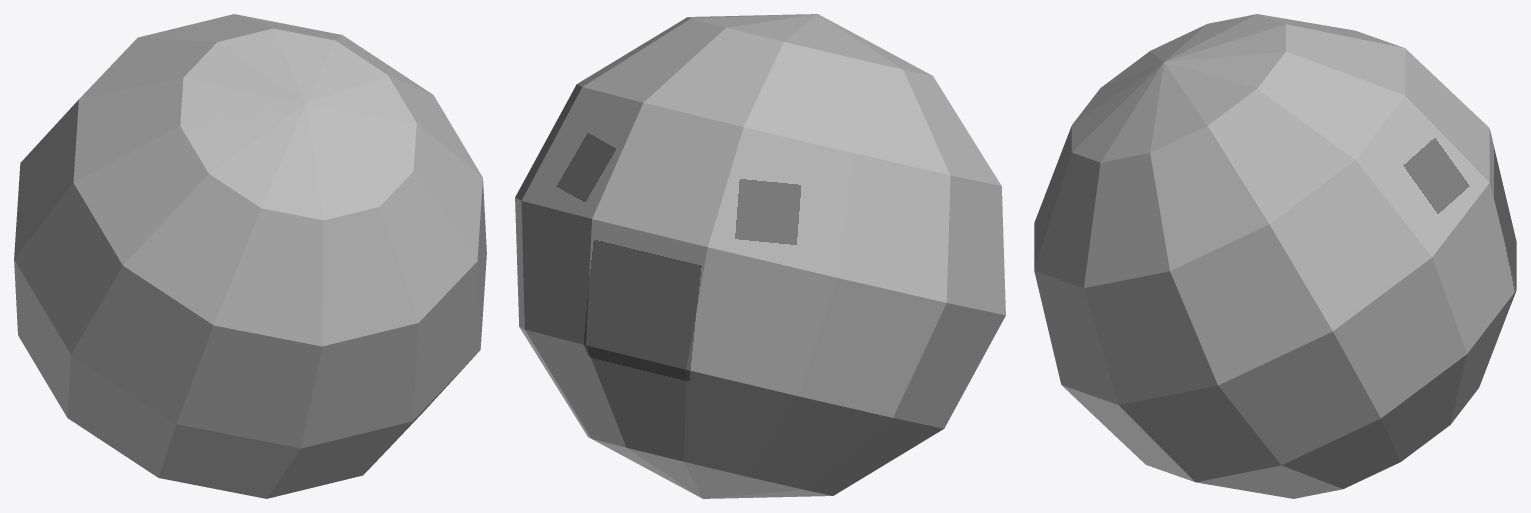
Rendered from stoneshooter.obj.
3 views of the same model, side by side, from view 1: azimuth 30°, elevation 25°; view 2: azimuth 150°, elevation 25°; view 3: azimuth 270°, elevation 25° (orthographic). The views are drawn at different scales.
Visible parts, largest first — view 1: sphere; view 2: sphere; view 3: sphere.
Part boxes in pixels (x1,y1,x2,y2): sphere: (14,14,486,498); sphere: (515,14,1005,498); sphere: (1034,14,1516,498).
Bounding box in the file's own units: 1 × 0.999 × 0.999.
1 material, 1 textured.
